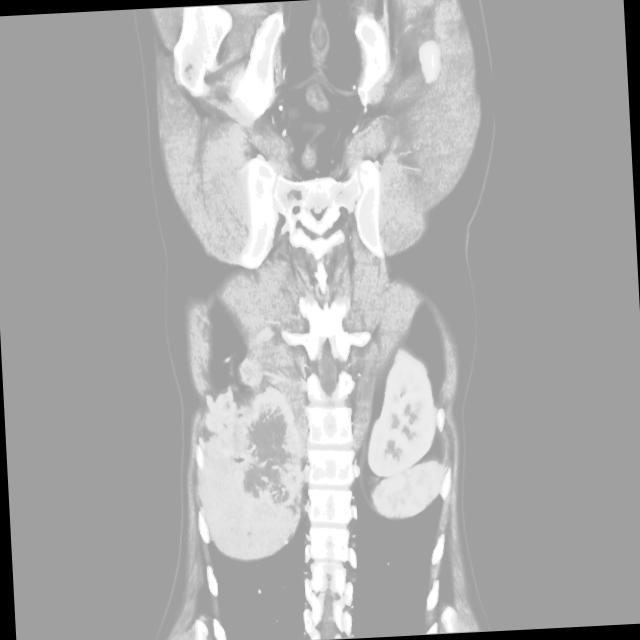TUMOR: (67, 114, 520, 474)
